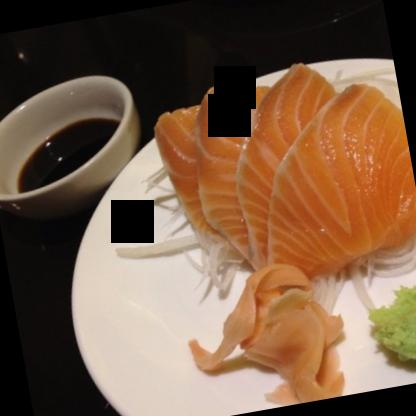salmon: (233, 84, 415, 293), (227, 64, 374, 282), (184, 80, 312, 274), (150, 106, 218, 282)
